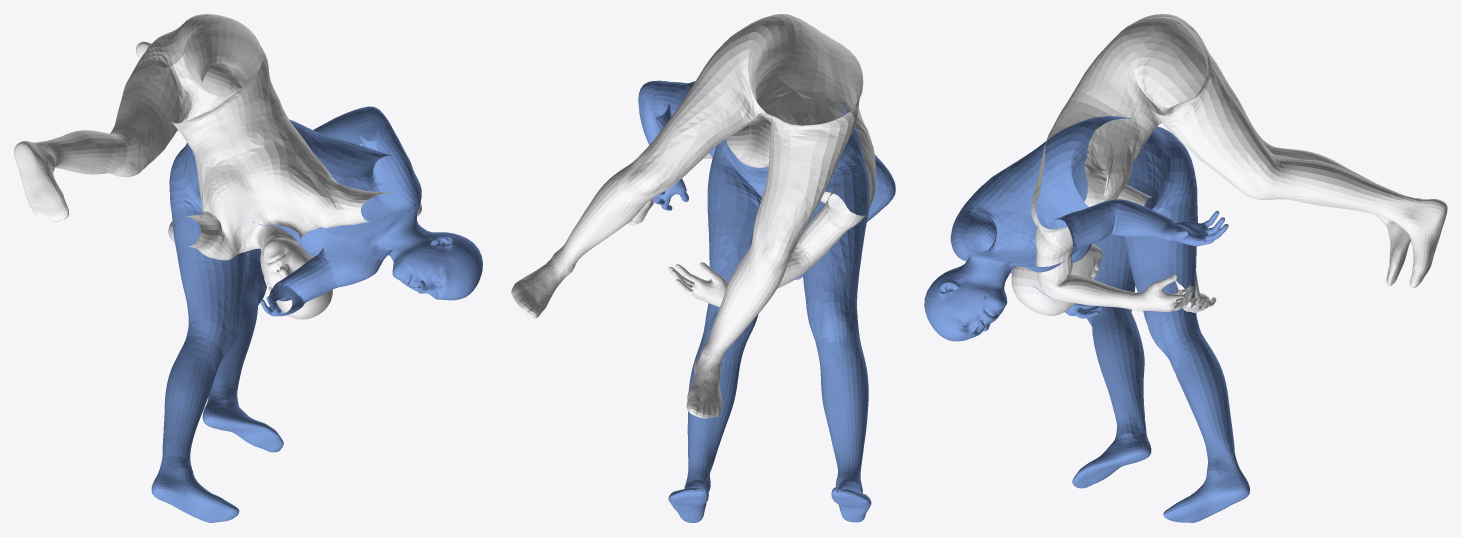
The model's file is hip-throw-4-throw.glb.
The picture shows the model from 3 angles, left to right: view 1: azimuth 30°, elevation 25°; view 2: azimuth 150°, elevation 25°; view 3: azimuth 270°, elevation 25°; orthographic projection. The views are drawn at different scales.
Parts seen in each view (by area): view 1: p0, p1; view 2: p0, p1; view 3: p1, p0.
Boxes of the visible parts, bbox=[...] form: p0: bbox=[14, 14, 421, 319]; p1: bbox=[151, 106, 482, 522]; p0: bbox=[511, 14, 875, 418]; p1: bbox=[638, 80, 895, 522]; p1: bbox=[924, 116, 1249, 522]; p0: bbox=[1011, 14, 1447, 315].
Bounding box in the file's own units: 0.7469 × 1.38 × 1.38.
